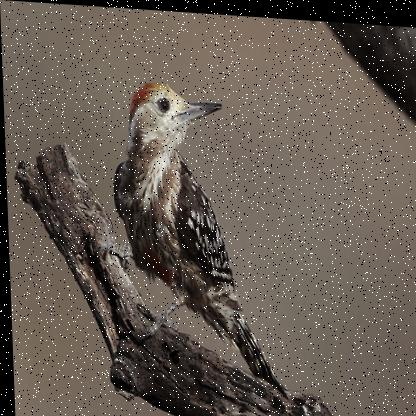Burung: (109, 79, 285, 394)
